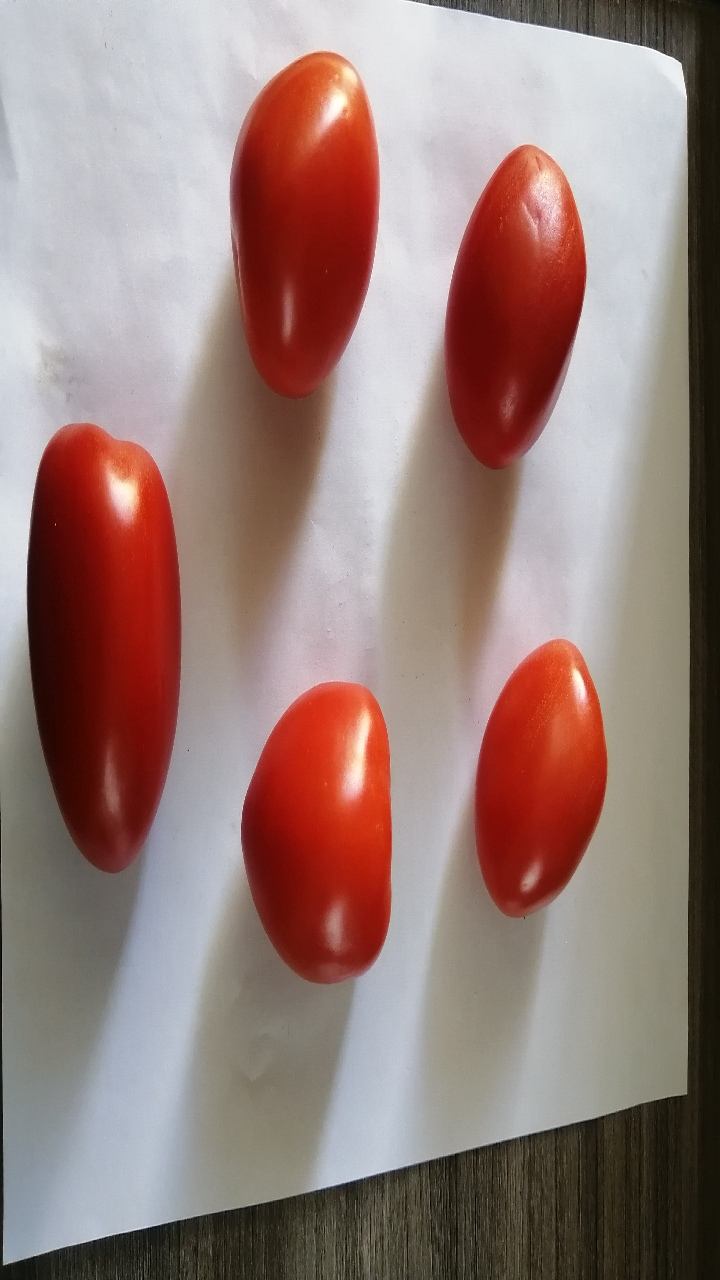tomateRojo: (8, 419, 211, 889), (420, 105, 621, 495), (218, 668, 420, 1006), (209, 28, 386, 405), (444, 609, 618, 943)
